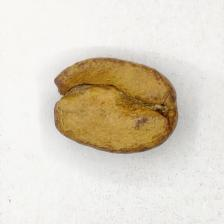NG: (58, 63, 167, 146)
